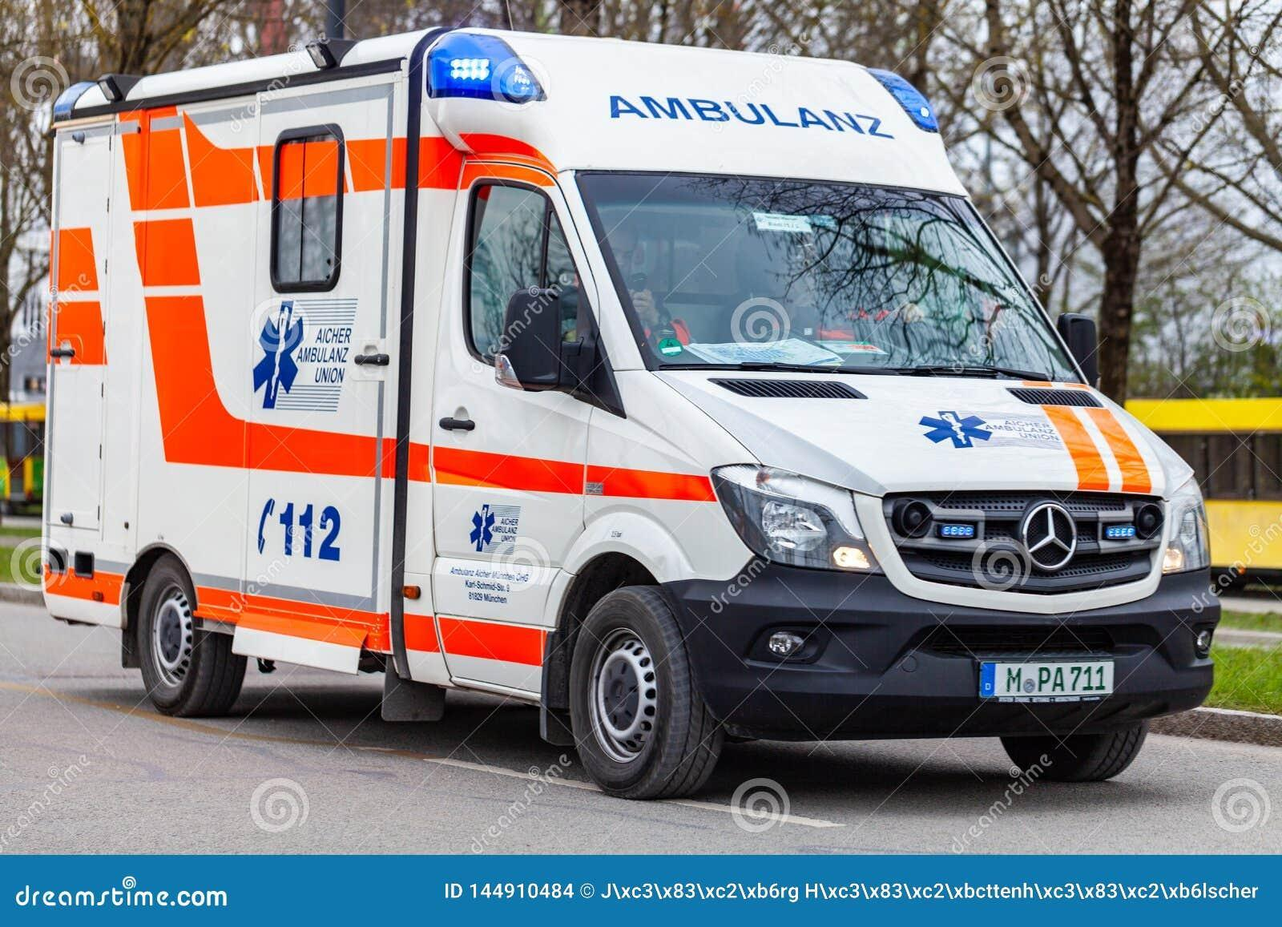Ambulance: (597, 81, 915, 161), (248, 299, 357, 413), (916, 395, 994, 461)
